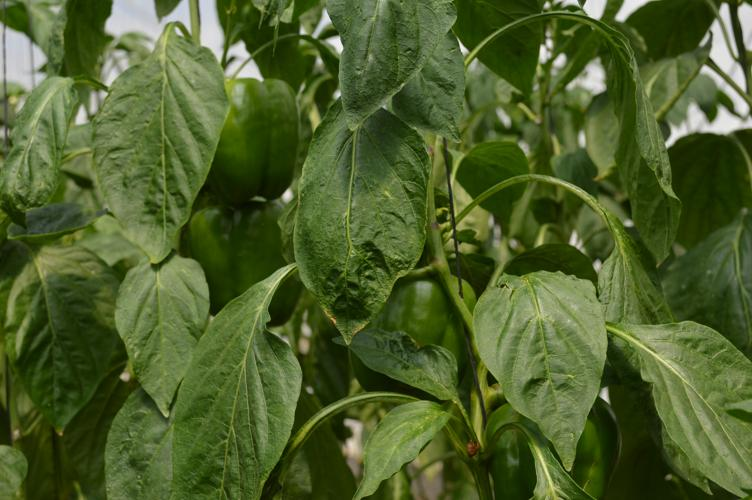BellPepper: (481, 393, 620, 497), (189, 204, 304, 323), (345, 279, 465, 385), (203, 78, 304, 201)
